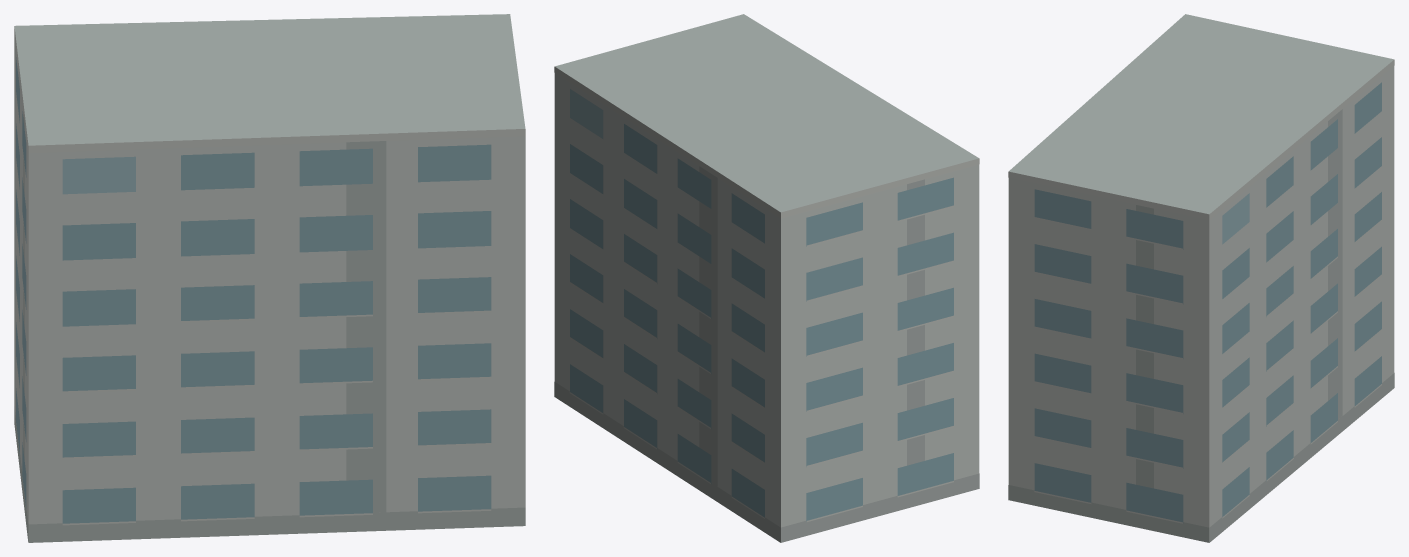
The model's file is survey-upis-32852746.glb.
3 views of the same model, side by side, from view 1: azimuth 30°, elevation 25°; view 2: azimuth 150°, elevation 25°; view 3: azimuth 270°, elevation 25° (orthographic). The views are drawn at different scales.
Parts seen in each view (by area): view 1: survey-upis-32852746.tmp; view 2: survey-upis-32852746.tmp; view 3: survey-upis-32852746.tmp.
Boxes of the visible parts, x1,y1,x2,y2 form: survey-upis-32852746.tmp: [14, 14, 525, 542]; survey-upis-32852746.tmp: [554, 14, 979, 542]; survey-upis-32852746.tmp: [1008, 14, 1394, 542].
Size of the model in its own units: 17.14 by 13.1 by 13.96.
